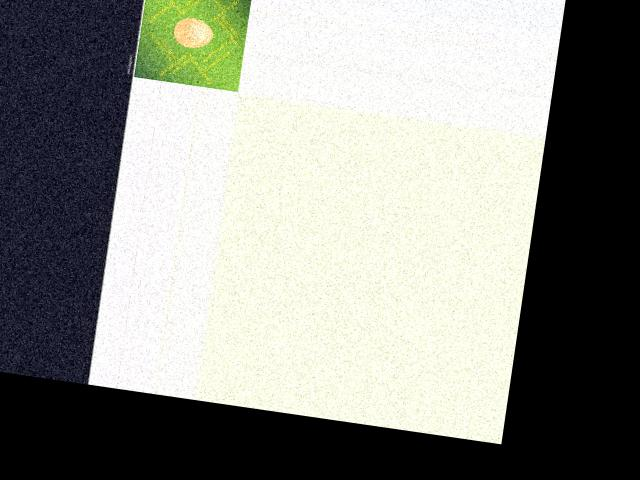egg: (172, 15, 214, 50)
